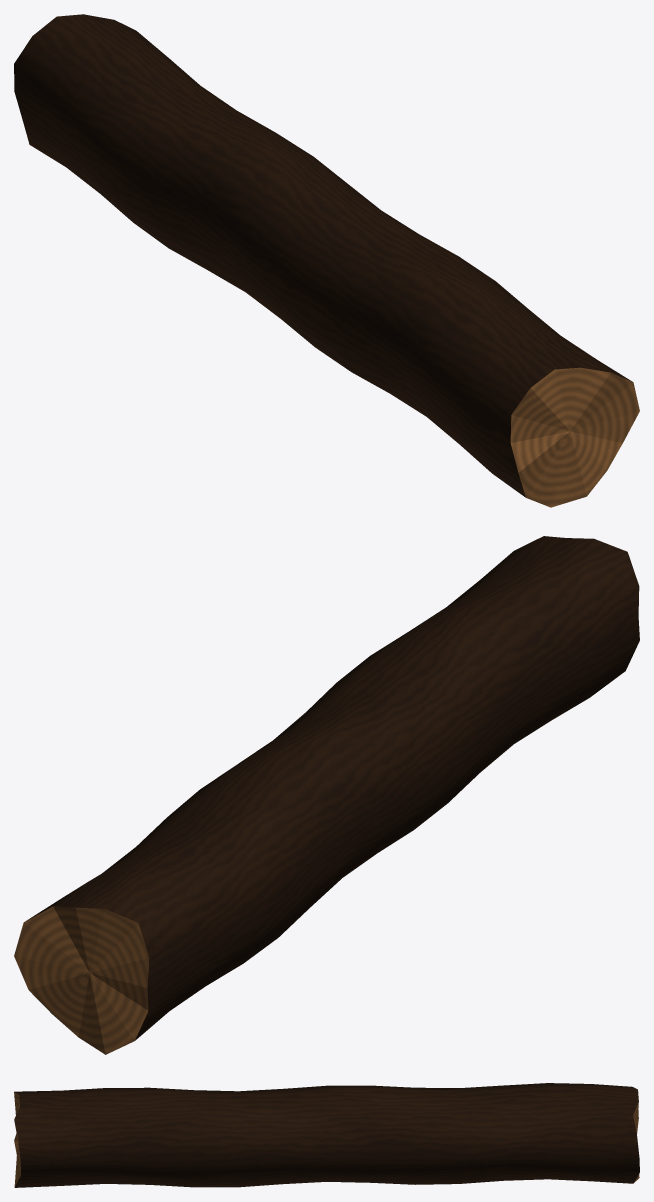
File: SM_Firewood_01.fbx
The picture shows the model from 3 angles, top to bottom: view 1: azimuth 30°, elevation 25°; view 2: azimuth 150°, elevation 25°; view 3: azimuth 270°, elevation 25°; orthographic projection. The views are drawn at different scales.
Visible parts, largest first — view 1: Firewood_Mesh; view 2: Firewood_Mesh; view 3: Firewood_Mesh.
Part boxes in pixels (x1,y1,x2,y2): Firewood_Mesh: (14,14,639,507); Firewood_Mesh: (14,536,639,1054); Firewood_Mesh: (14,1083,639,1187).
Bounding box in the file's own units: 0.0602 × 0.0559 × 0.3439.
2 materials, 2 textured.
